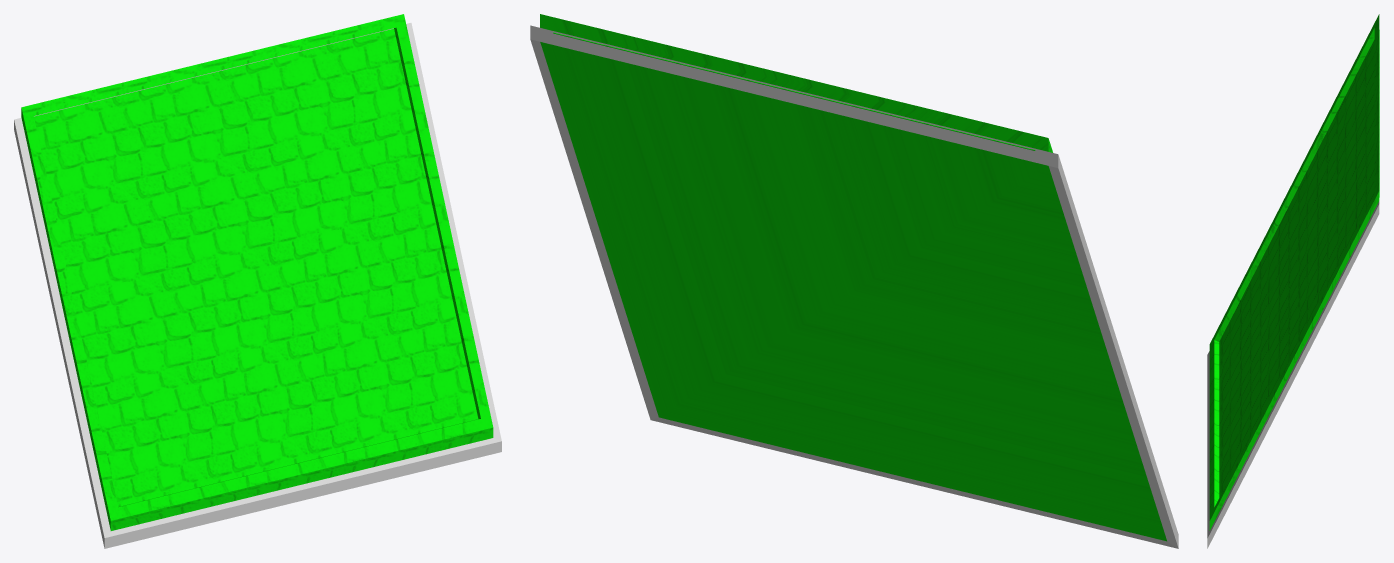
3 renders of one model, left to right at view 1: azimuth 30°, elevation 25°; view 2: azimuth 150°, elevation 25°; view 3: azimuth 270°, elevation 25°, orthographic. The views are drawn at different scales.
Parts seen in each view (by area): view 1: 별관 지붕, 별관 외부 지붕_lorn; view 2: 별관 지붕, 별관 외부 지붕_lorn; view 3: 별관 지붕, 별관 외부 지붕_lorn.
Part boxes in pixels (x1,y1,x2,y2): 별관 지붕: (21,14,493,530); 별관 외부 지붕_lorn: (14,23,501,548); 별관 지붕: (540,14,1166,541); 별관 외부 지붕_lorn: (530,25,1178,548); 별관 지붕: (1209,14,1379,530); 별관 외부 지붕_lorn: (1207,201,1379,548).
Size of the model in its own units: 328 by 294 by 129.
